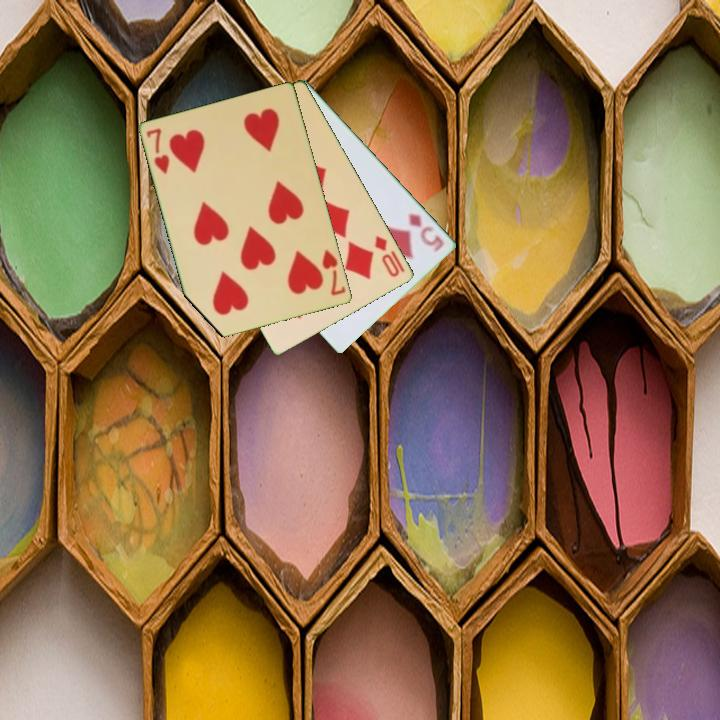10d: (371, 232, 408, 280)
5d: (405, 210, 447, 255)
7h: (319, 246, 349, 299), (143, 125, 173, 177)
